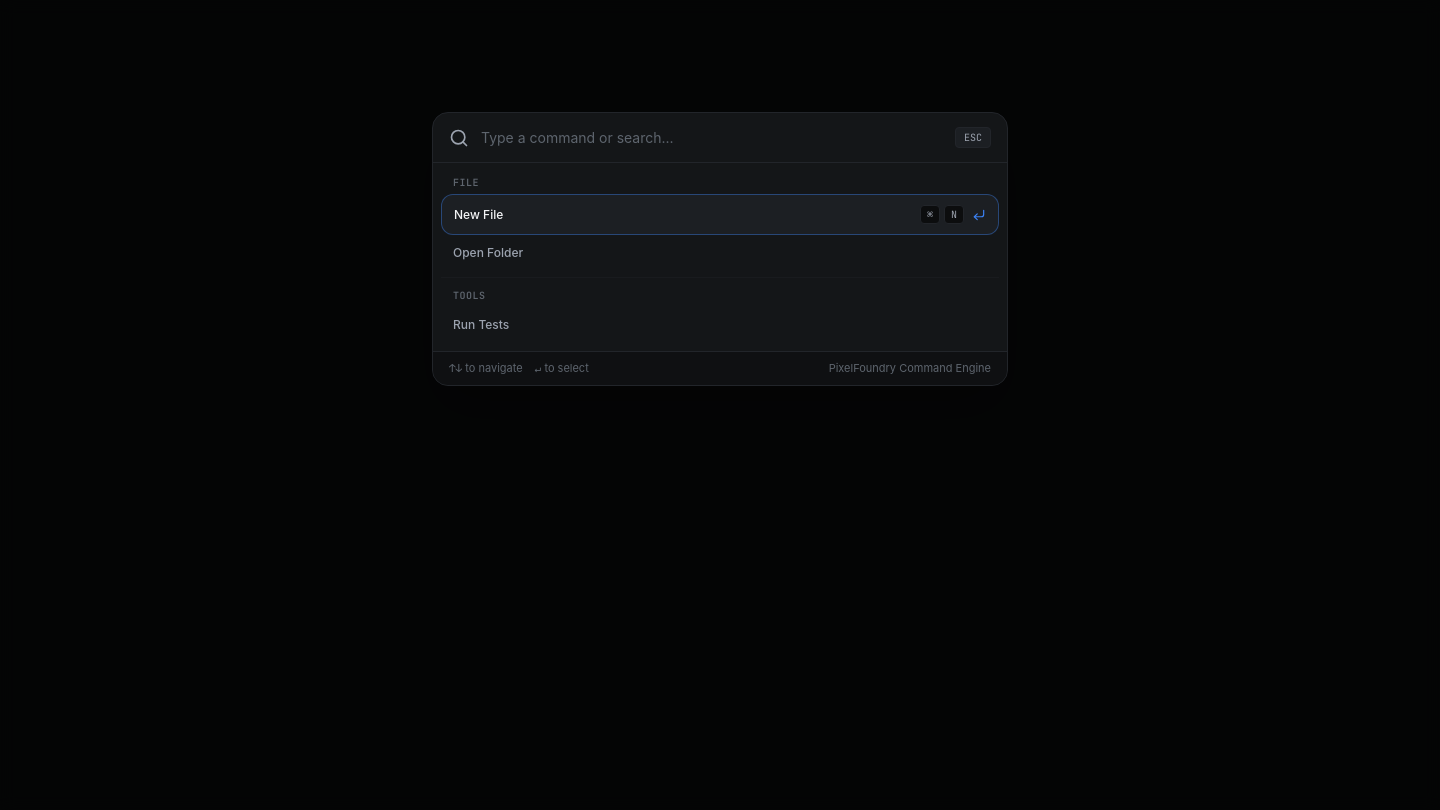
Test case: CommandPalette › shows empty message when no results
The image size is (1440, 810).
Type "xyzzy" into the dropdown at point(712, 138), box [481,128,943,148]
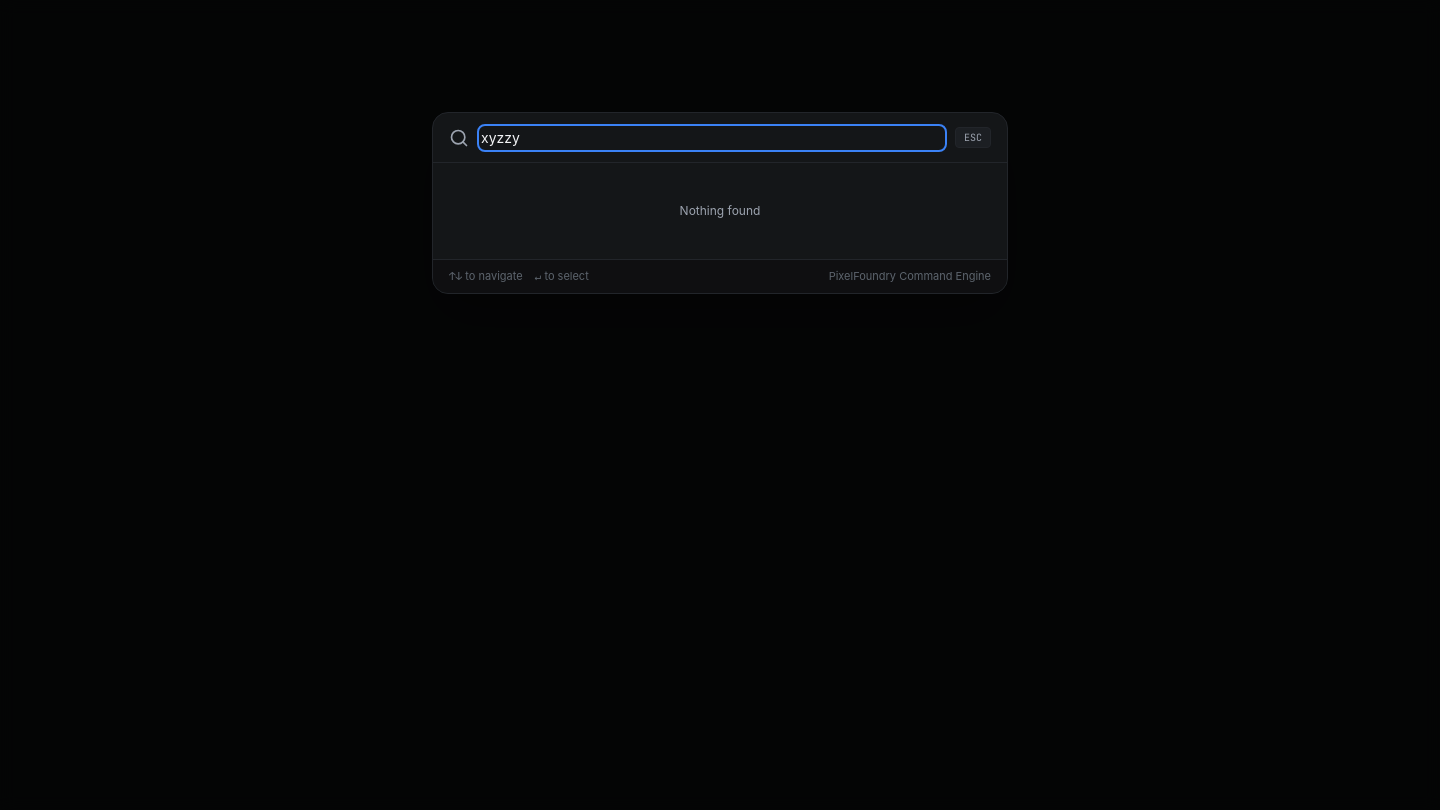
Result: the text "Nothing found" is shown at [680,203,760,218]
